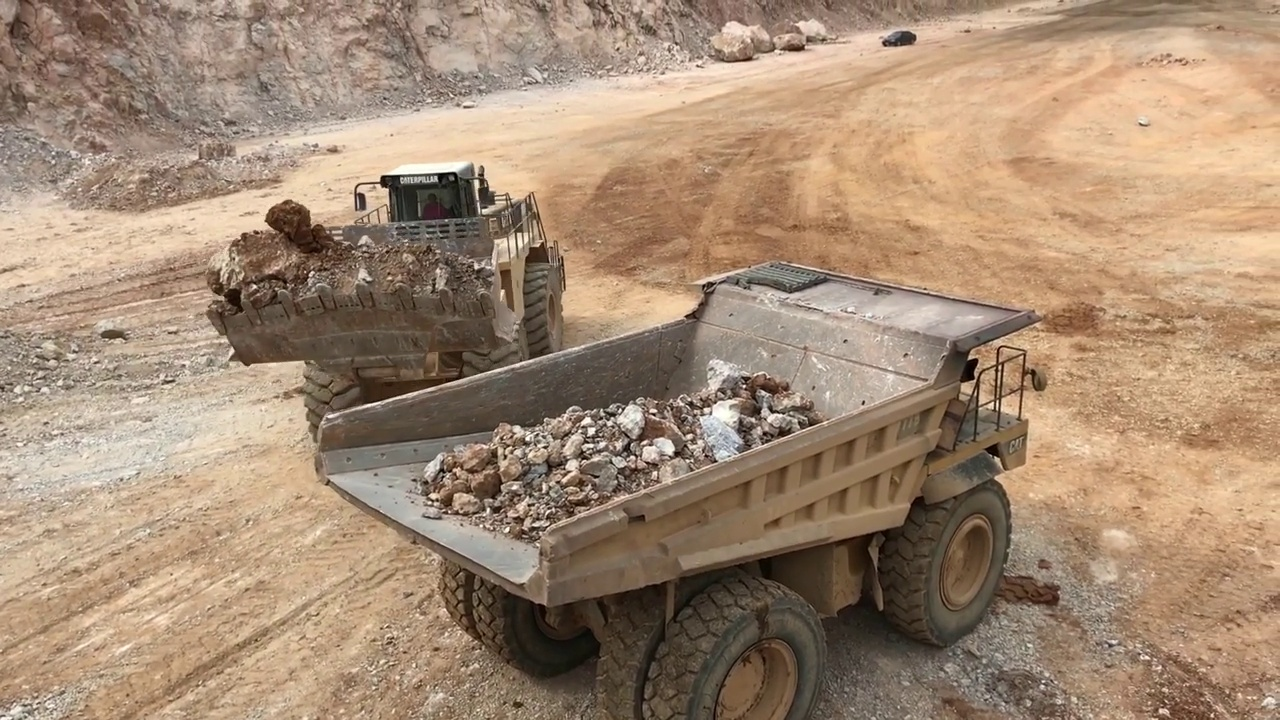car: (880, 29, 922, 47)
dumper: (311, 263, 1050, 720)
wheel loader: (206, 164, 569, 447)
